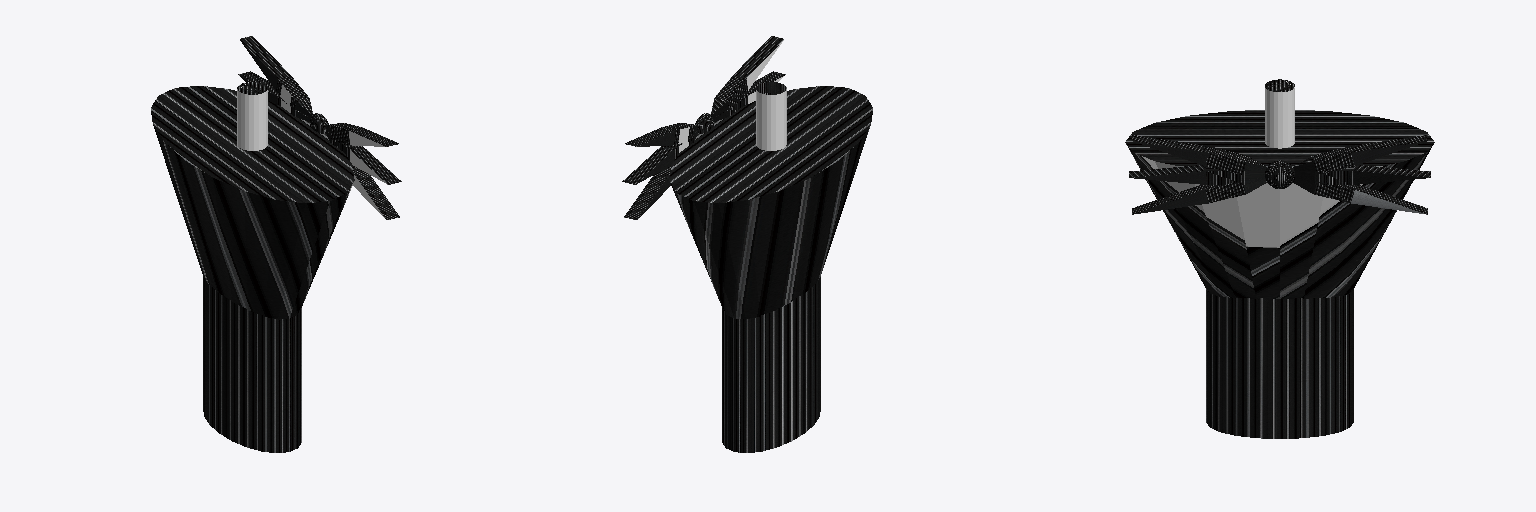
3 renders of one model, left to right at view 1: azimuth 30°, elevation 25°; view 2: azimuth 150°, elevation 25°; view 3: azimuth 270°, elevation 25°, orthographic.
Visible parts, largest first — view 1: polySurface47; view 2: polySurface47; view 3: polySurface47.
Boxes of the visible parts, <box> form: polySurface47: <box>151,36,401,452</box>; polySurface47: <box>622,36,872,452</box>; polySurface47: <box>1125,79,1434,438</box>.
Bounding box in the file's own units: 105 × 240 × 200.
1 materials, 1 textured.